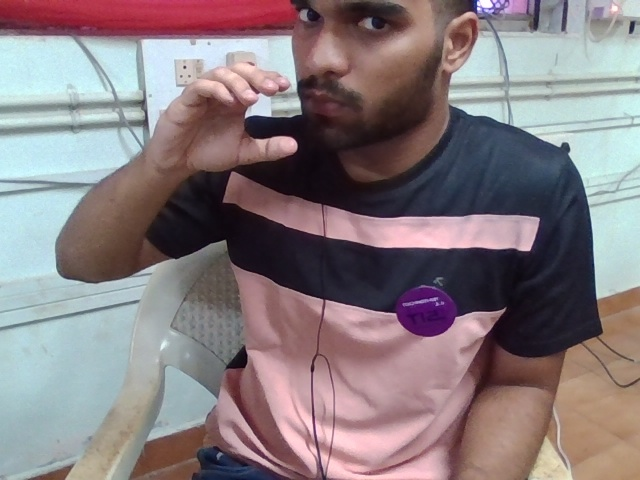Drink: (141, 32, 308, 209)
